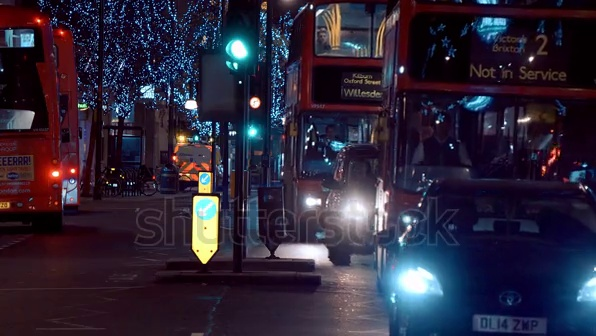licenseplate: (475, 311, 554, 336)
